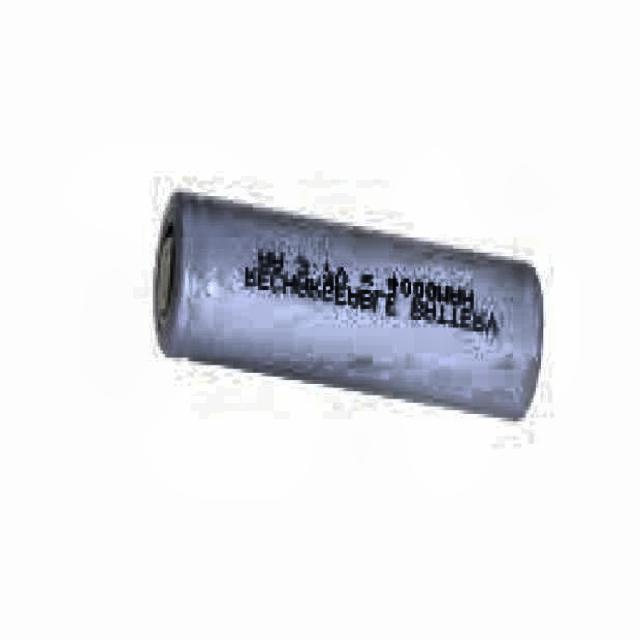battery: (153, 196, 541, 421)
